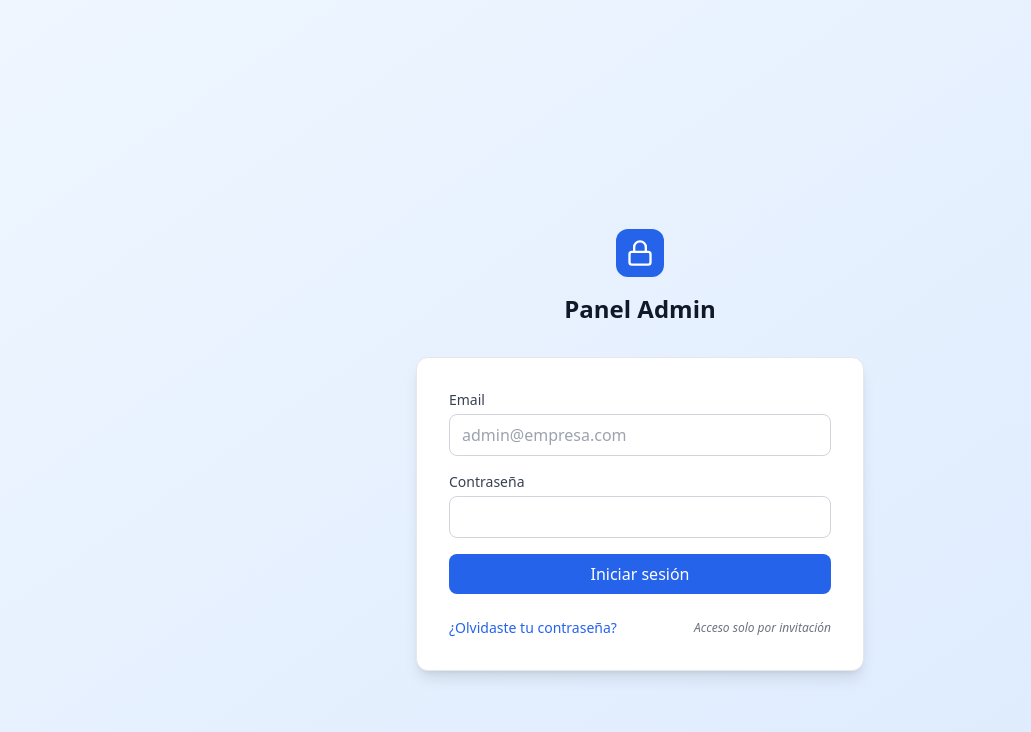
LoginPage › shows error message on 401 response
This screenshot has width=1031, height=732.
In the field labelled "Email": (640, 435) [449,414,831,456], type "test@example.com"
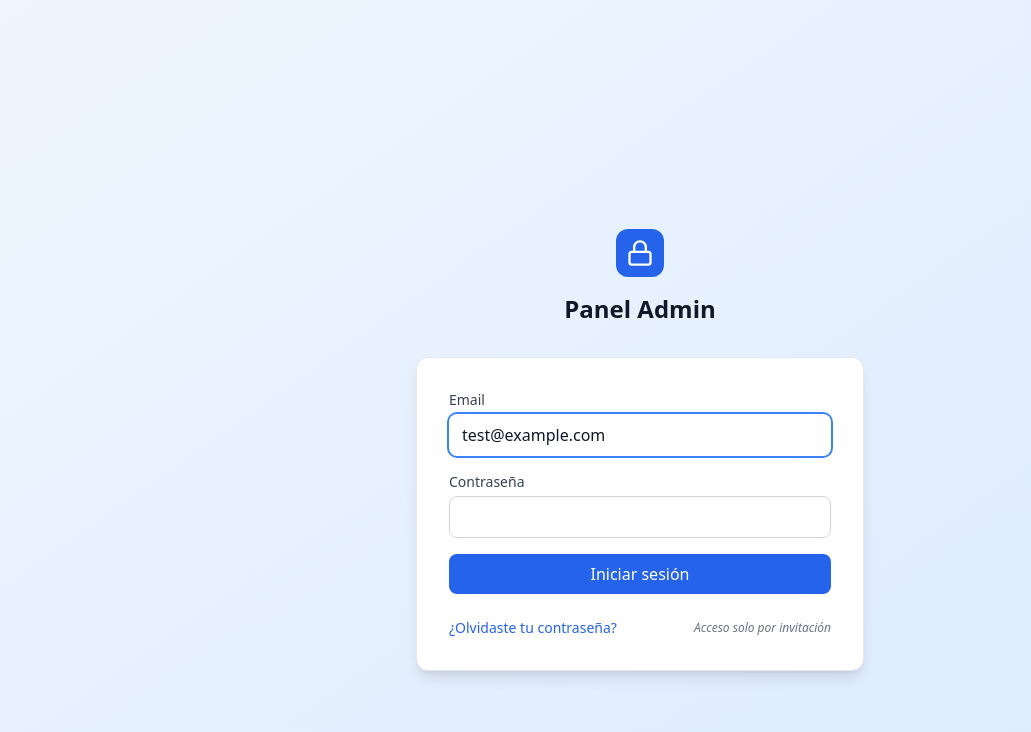
In the password field labelled "Contraseña": (640, 517) [449,496,831,538], type "wrong"
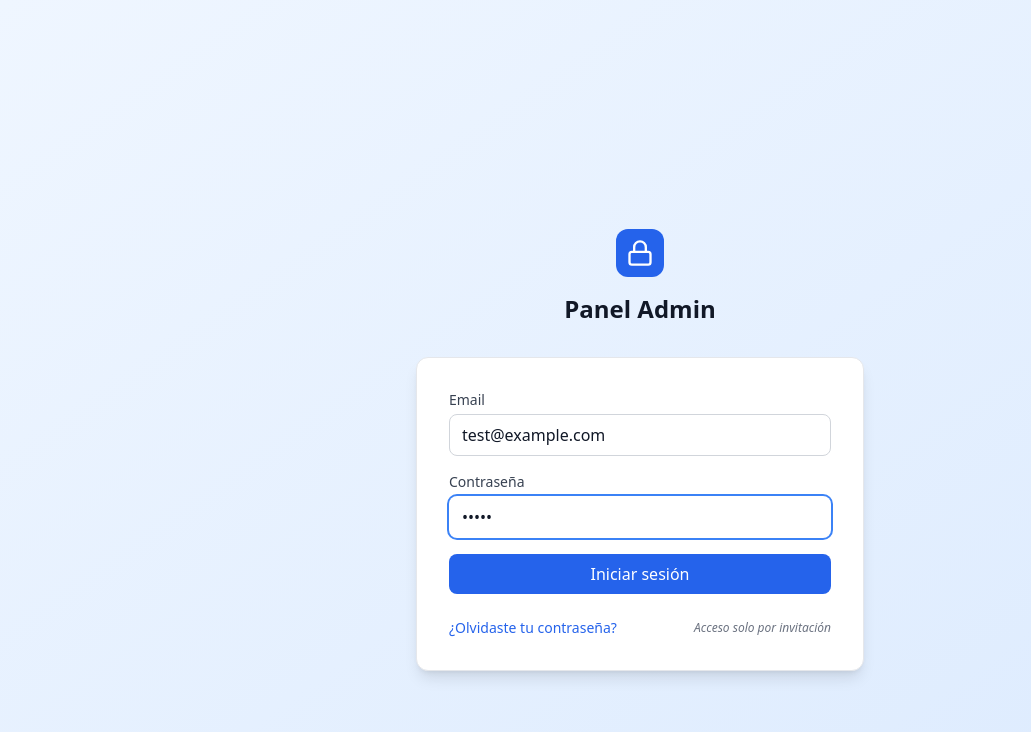
Click the button "Iniciar sesión": (640, 574) [449,554,831,594]
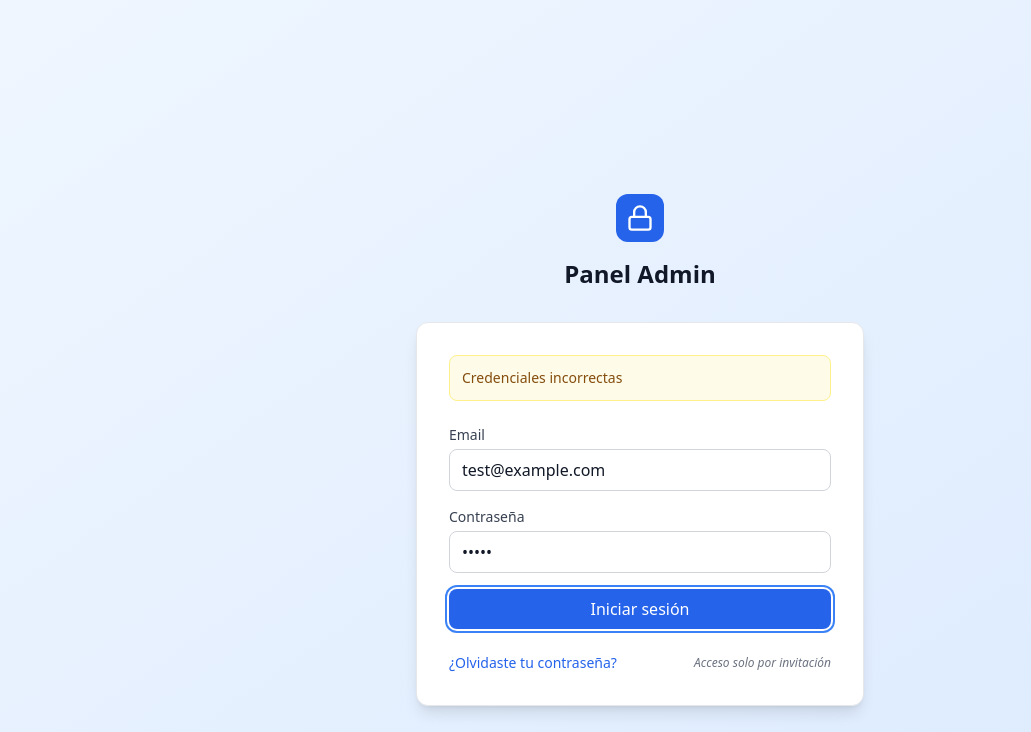
Expected: the text "Credenciales incorrectas" is shown, [449,355,831,401]
